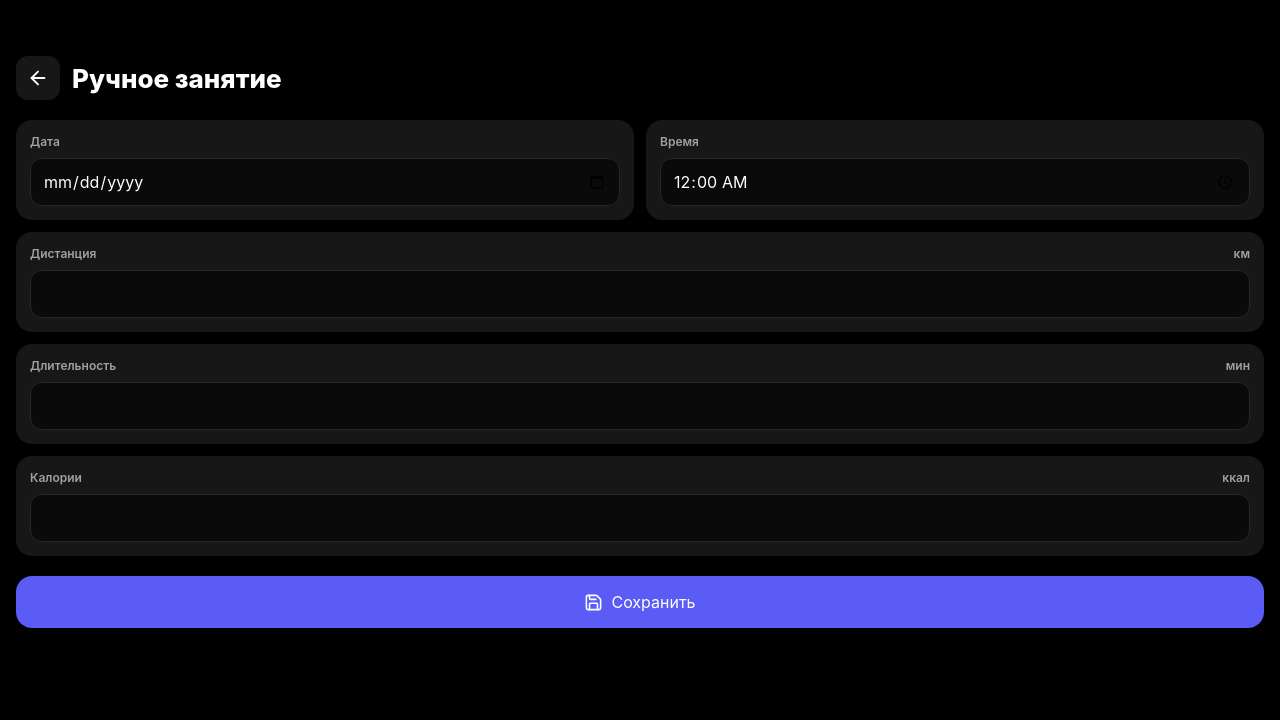
Test: ManualWorkoutScreen › requires positive workout values before saving
In the number field labelled "Дистанция": (640, 294) [30,270,1250,318], type "0"
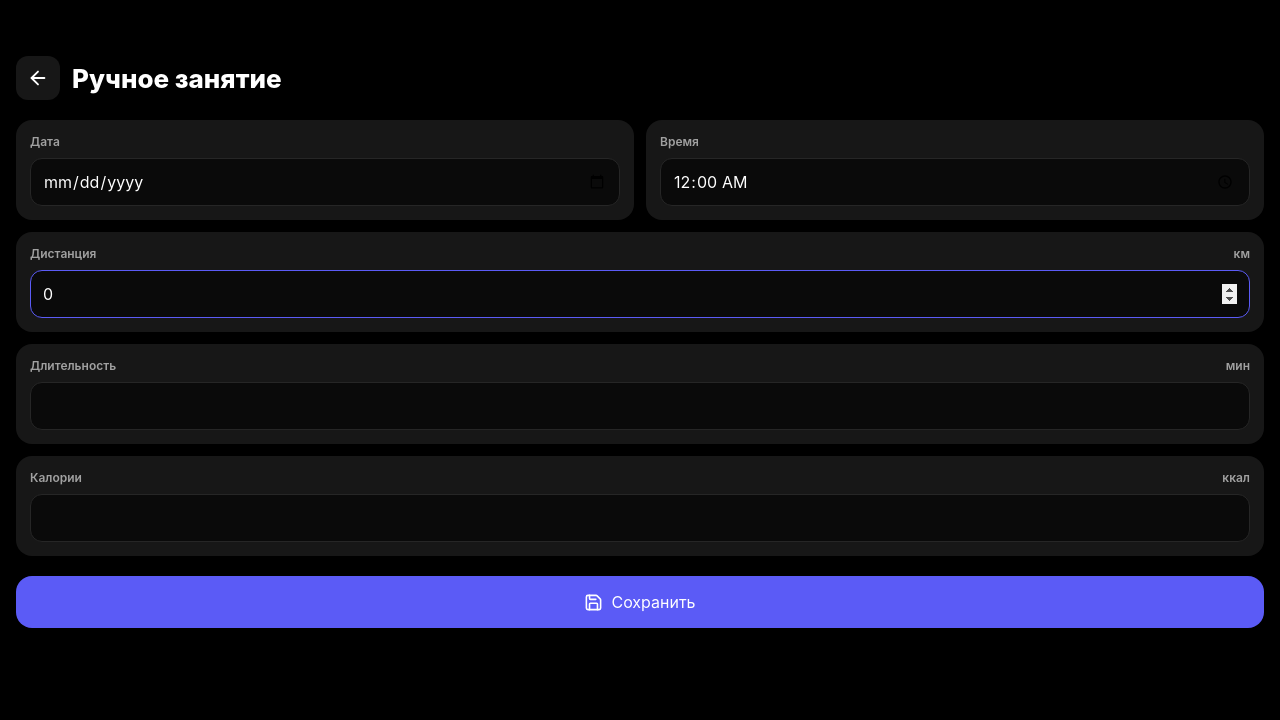
In the number field labelled "Длительность": (640, 406) [30,382,1250,430], type "0"
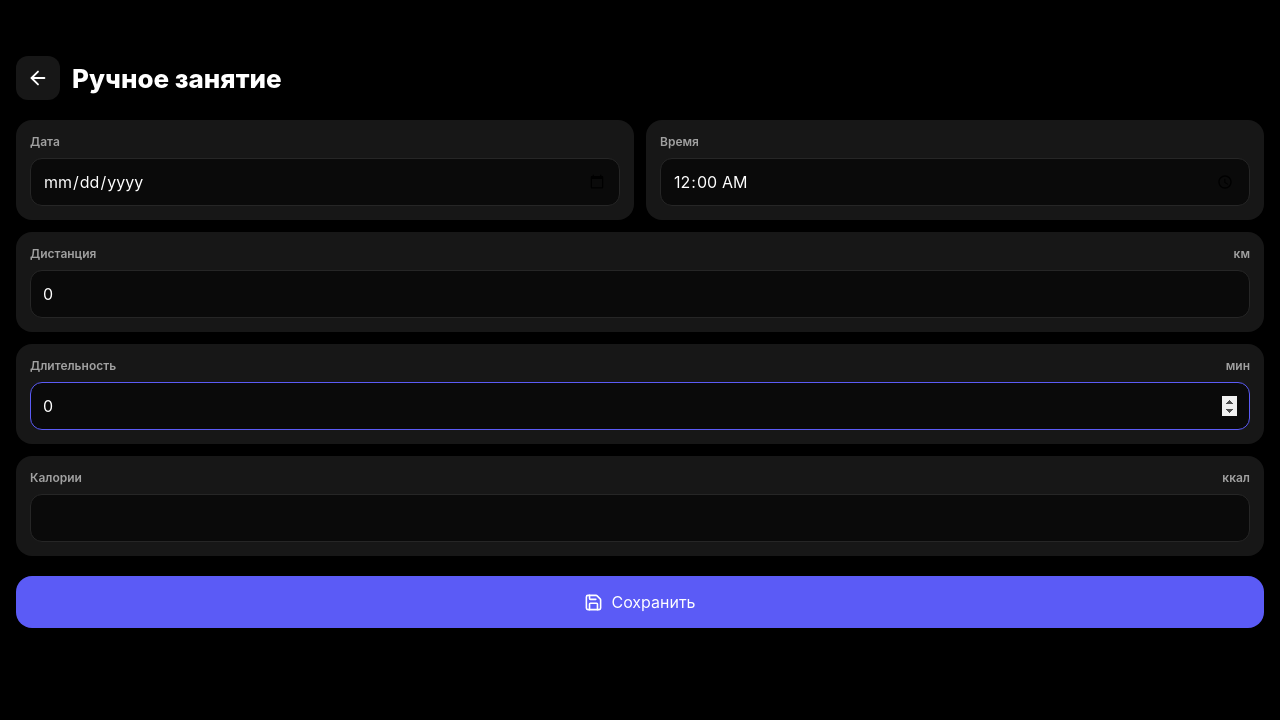
Click the button "Сохранить": click(640, 602) [16,576,1264,628]
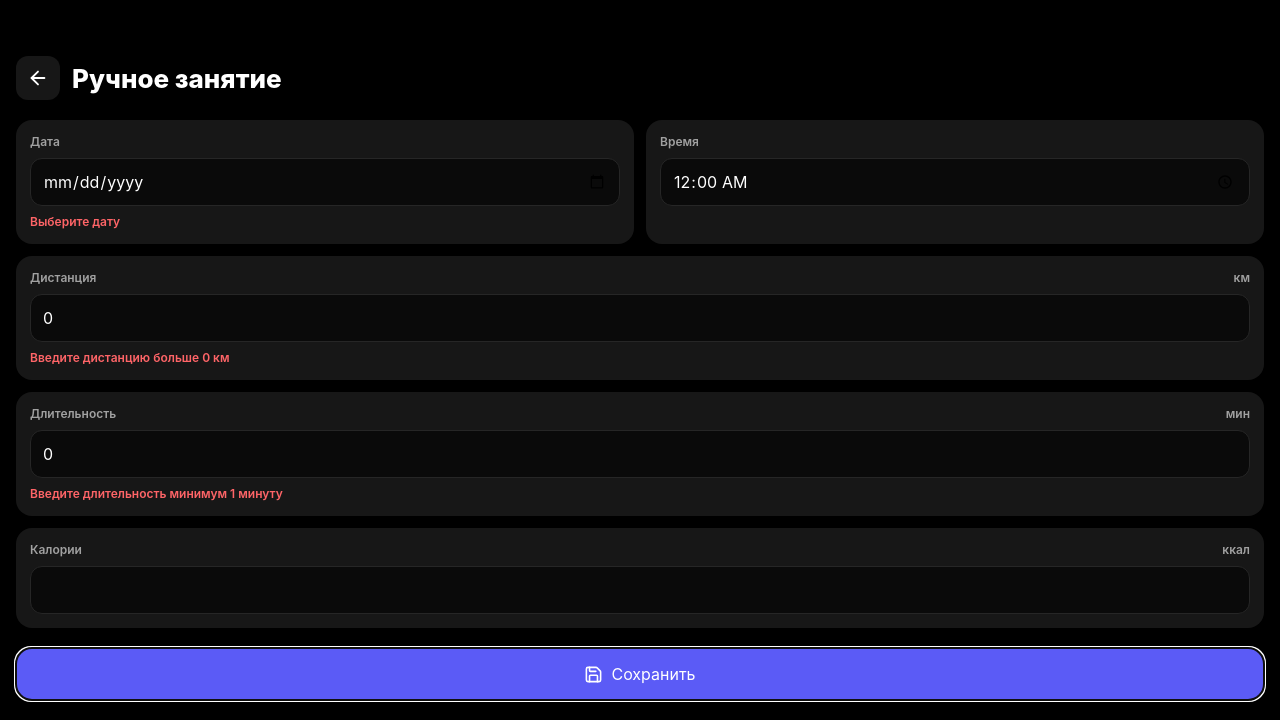
Expected: the text "Введите дистанцию больше 0 км" is shown, [30,350,230,365]
Expected: the text "Введите длительность минимум 1 минуту" is shown, [30,486,283,501]
